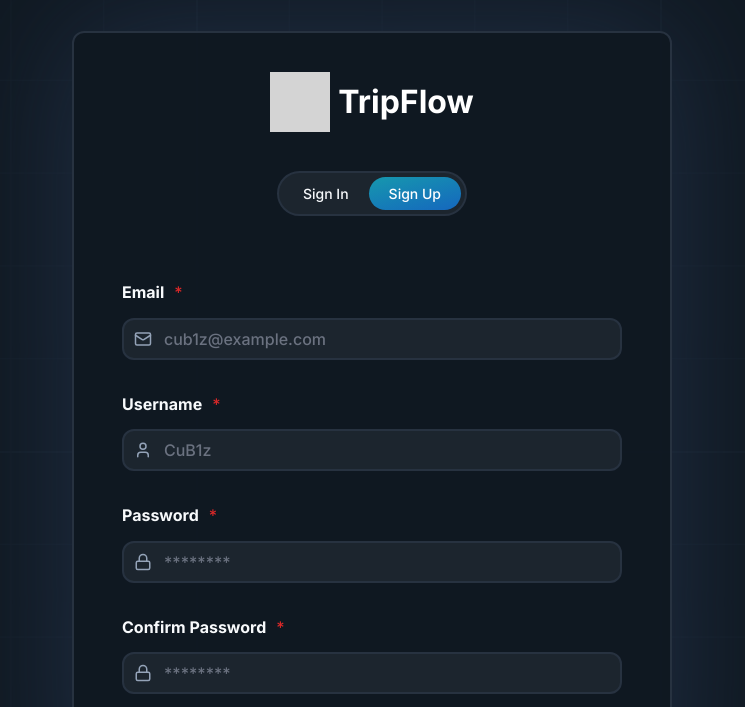
it: Register Page Validation › shows validation error for empty password
Step 1. Type "testuser" into the field labelled "Username *" → [372, 450], box [122, 429, 622, 471]
(page scrolled)
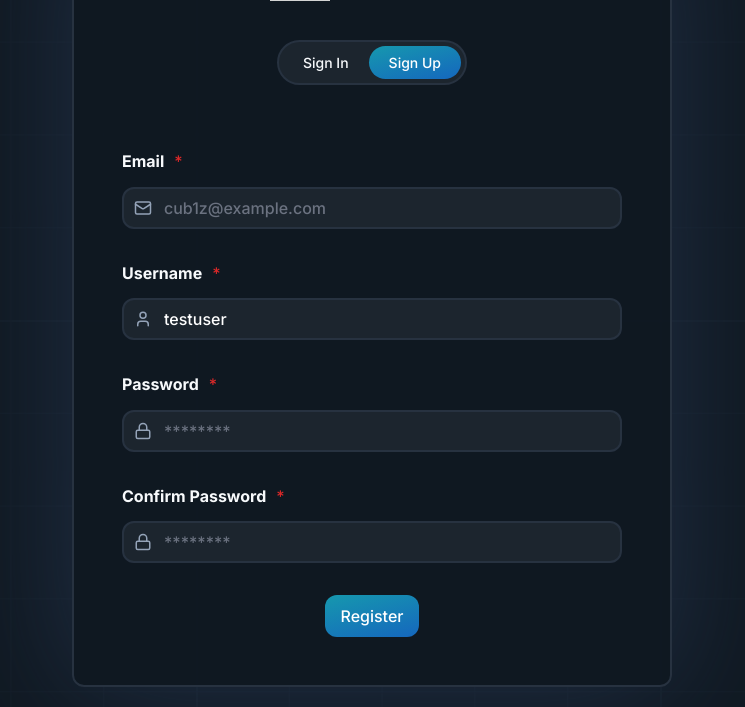
Step 2. Click the button "Register" → [372, 616], box [324, 595, 420, 637]
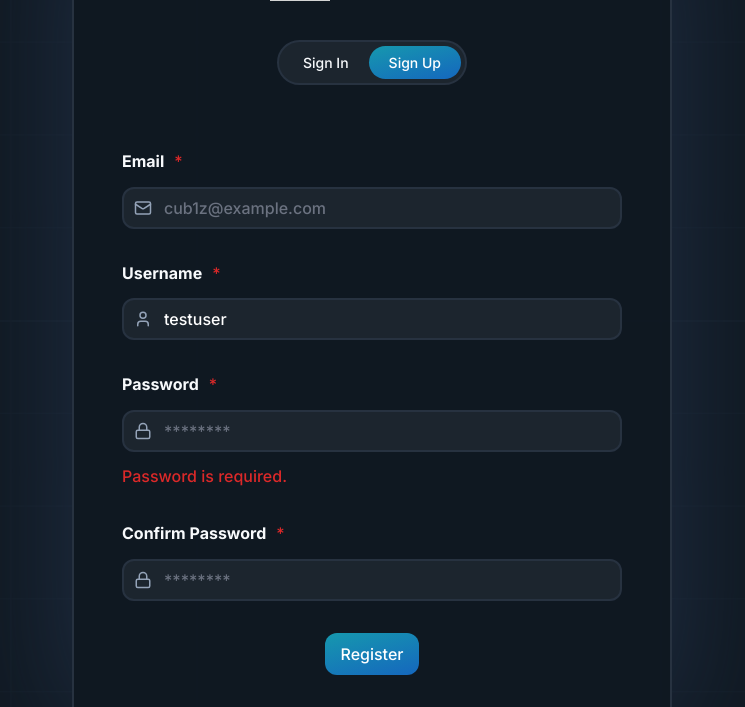
Check: the text "Password is required." is shown, box [122, 466, 287, 486]
